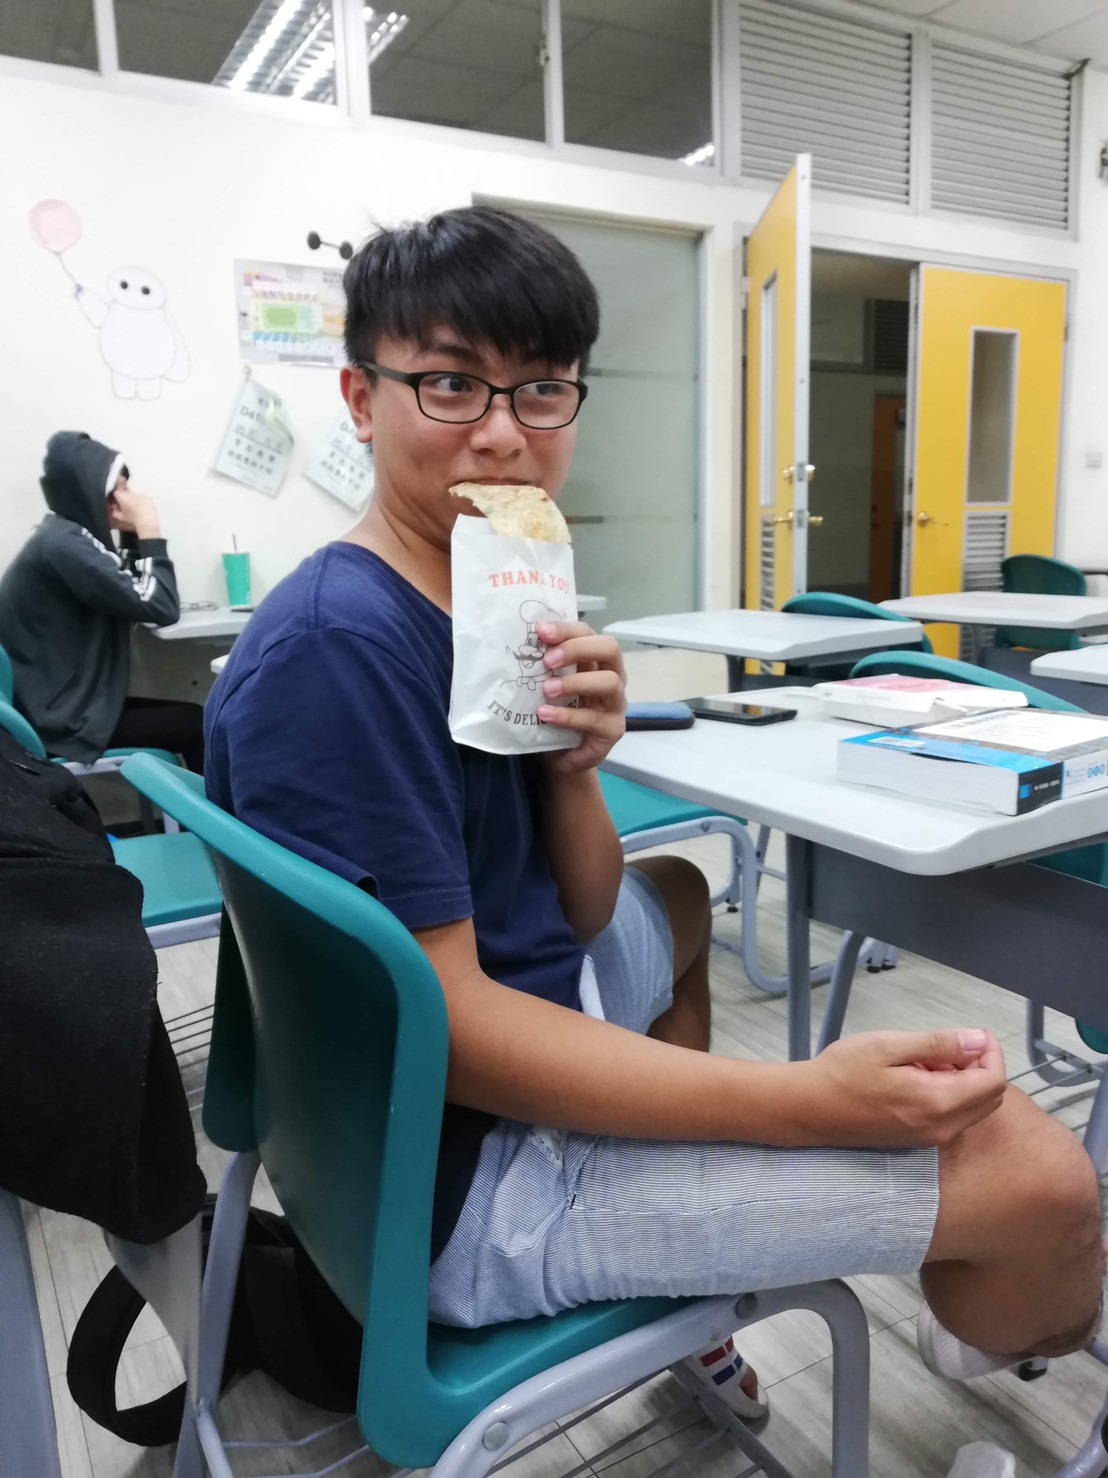people: (278, 221, 695, 1333), (2, 419, 183, 778)
